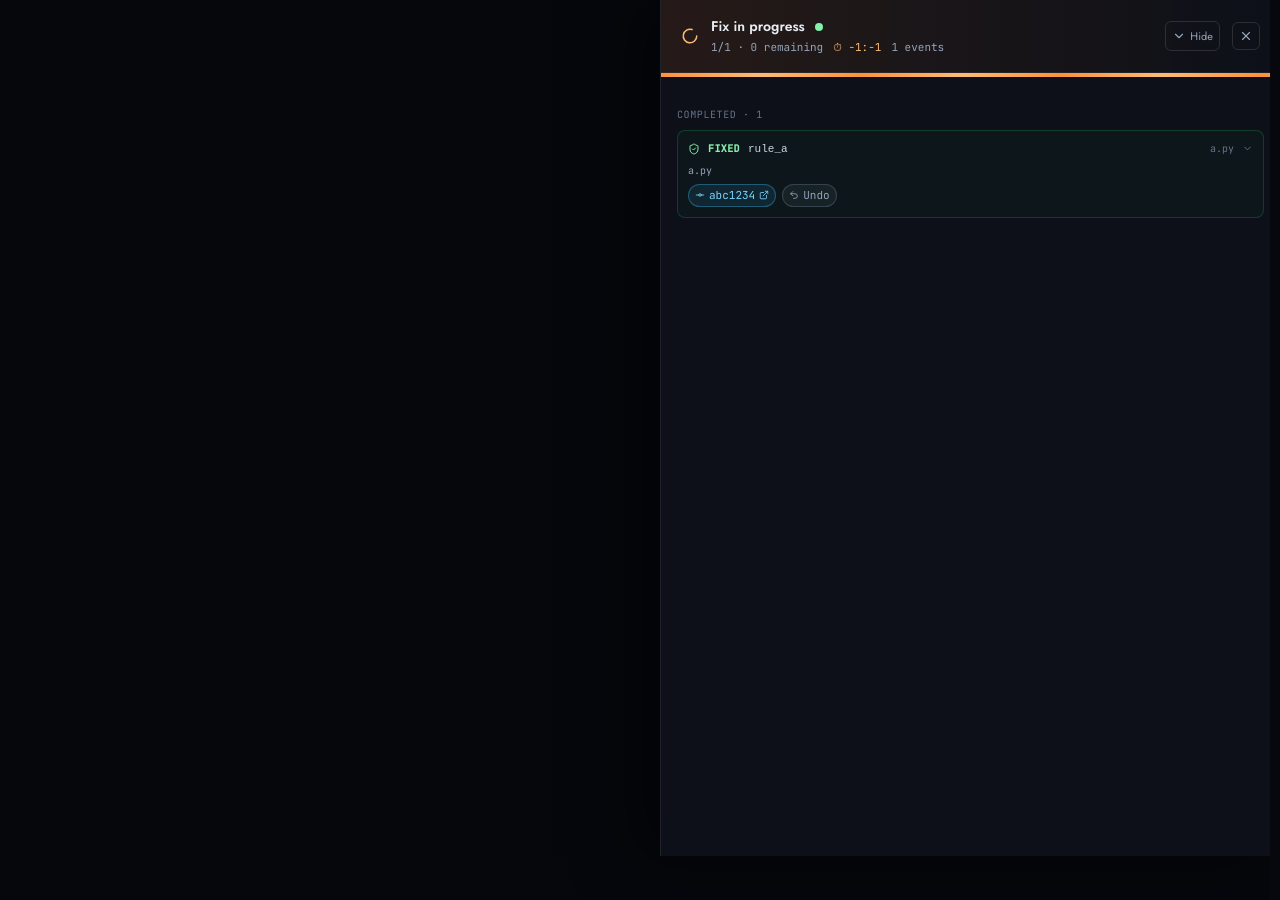
Test: FixProgressDrawer — Part 2b R6 undo/revert › undoes ONE fix via confirm -> api.post -> reverted state
Click the button with test id "fix-row-undo-f1".
click(809, 195)  # box [782,184,837,206]
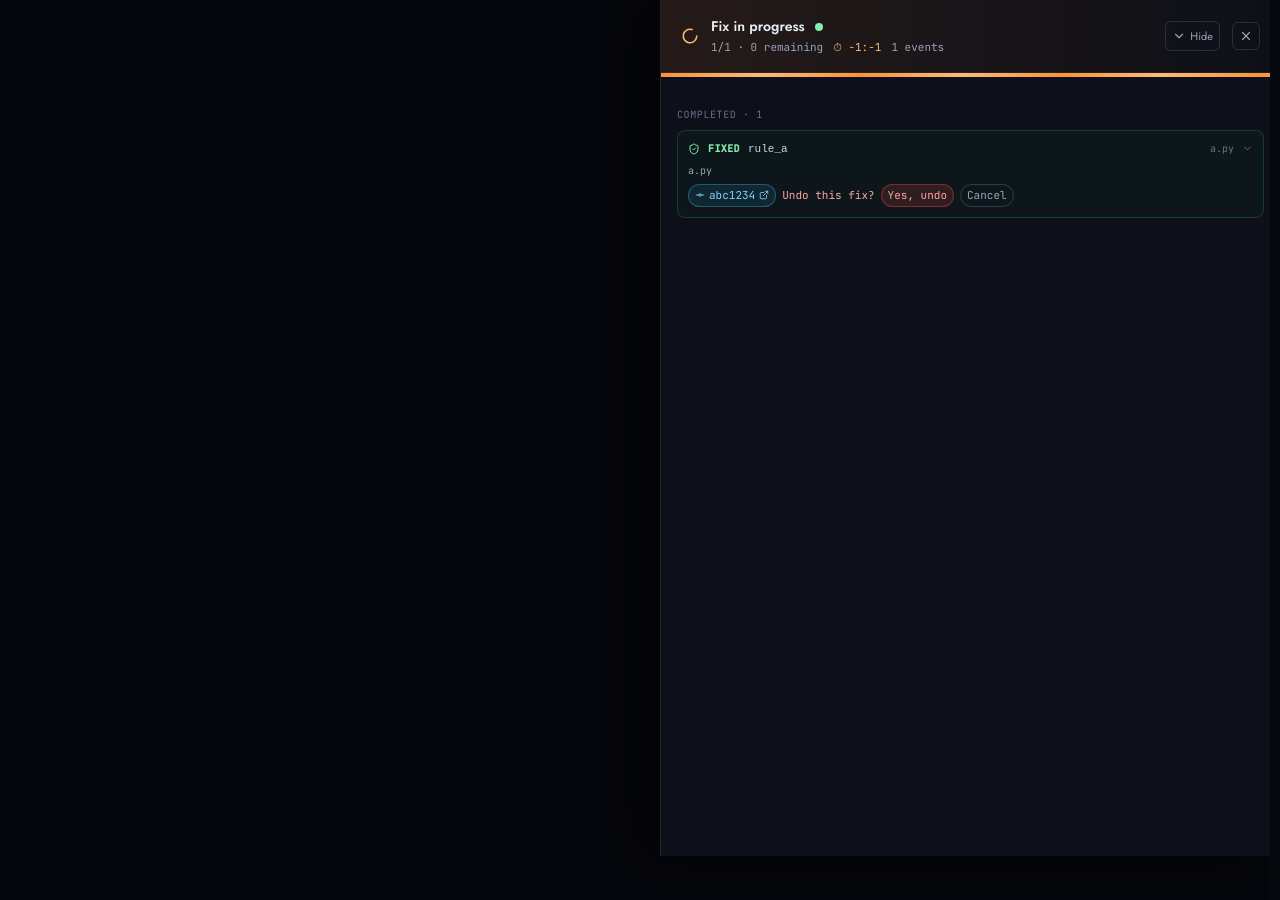
Result: the button with test id "fix-row-undo-confirm-f1" is shown
Click the button with test id "fix-row-undo-confirm-f1".
click(917, 195)  # box [881,184,954,206]
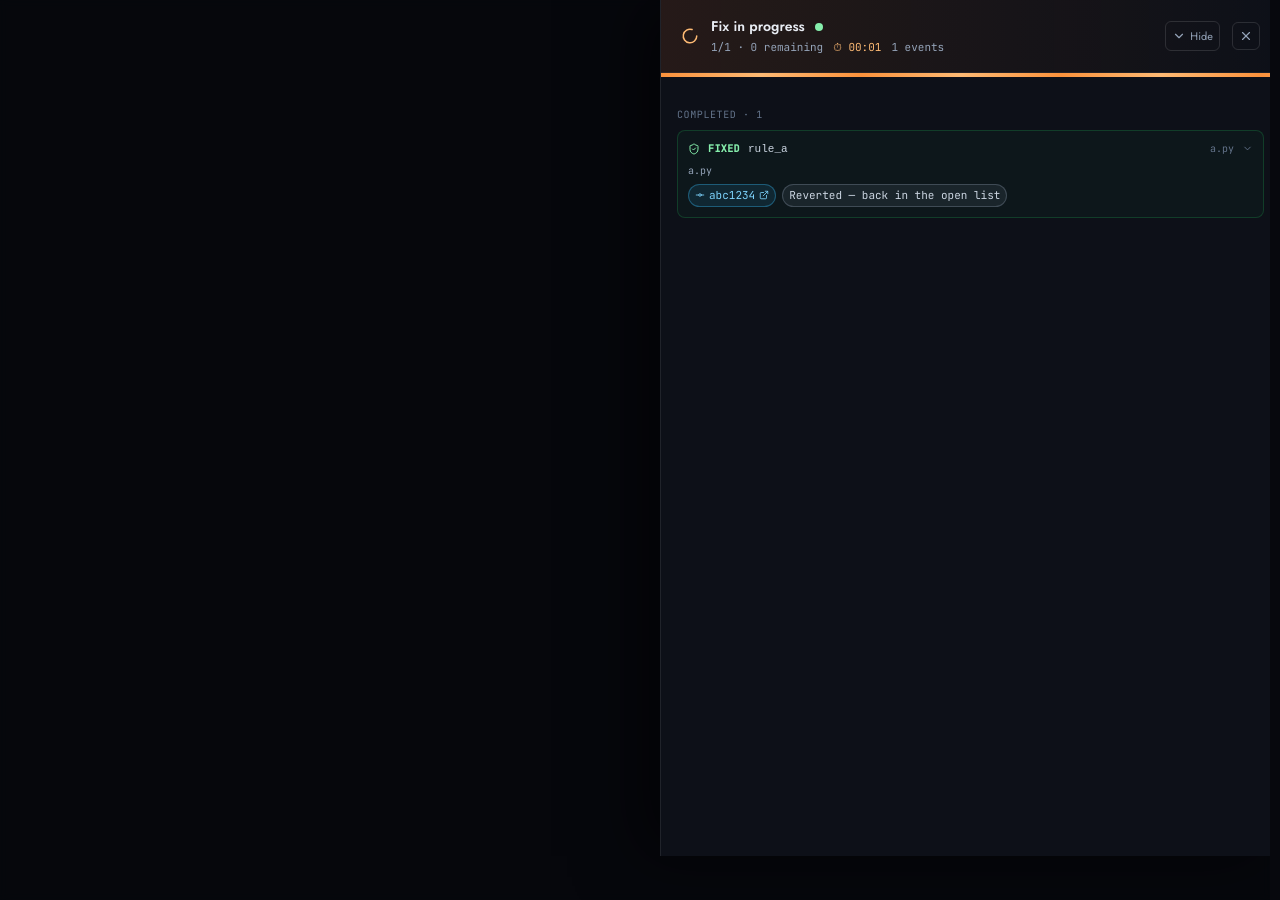
Result: the text "Reverted — back in the open list" is shown at [782,184,1007,206]
